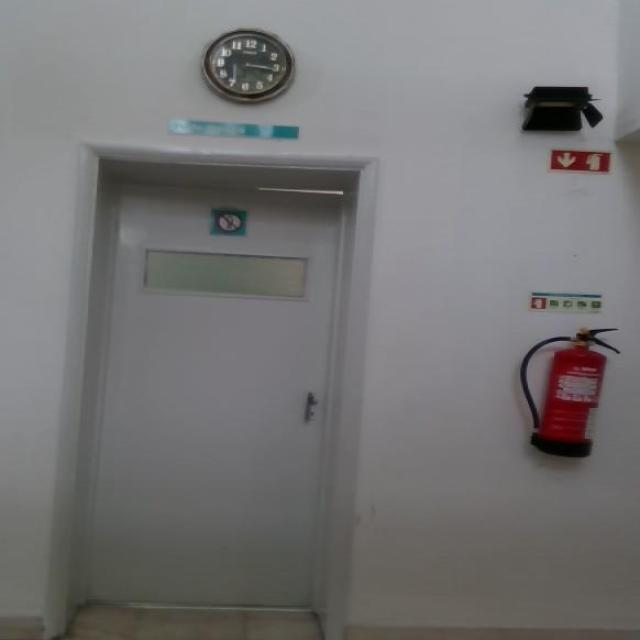door: (80, 180, 344, 616)
